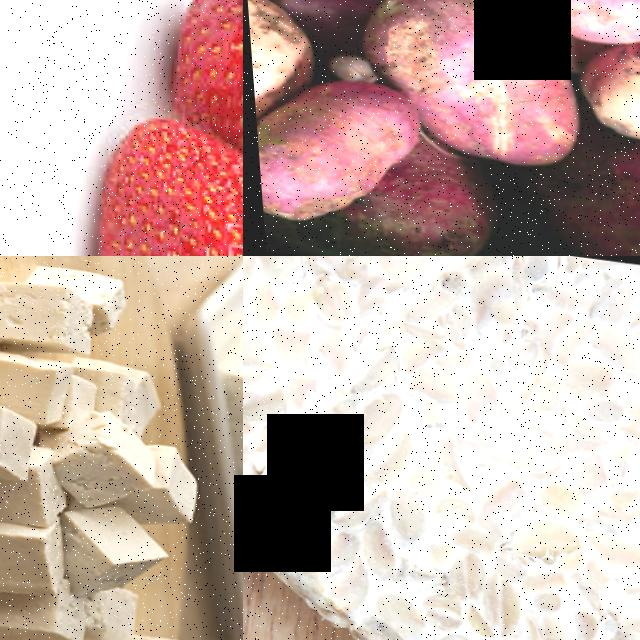strawberry: (64, 168, 243, 256), (147, 0, 243, 156)
sweet potato: (348, 0, 589, 170), (246, 61, 430, 246)
tempeh: (243, 256, 640, 640)
tofu: (43, 413, 163, 508), (54, 503, 164, 603), (0, 275, 100, 355), (68, 355, 168, 422), (0, 513, 69, 603), (0, 343, 70, 416), (0, 589, 82, 640), (0, 390, 40, 485)
